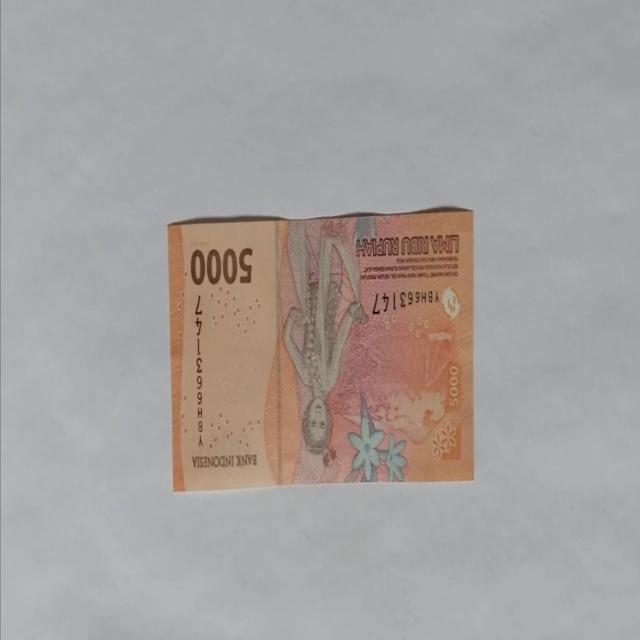lima ribu rupiah: (167, 206, 475, 492)
